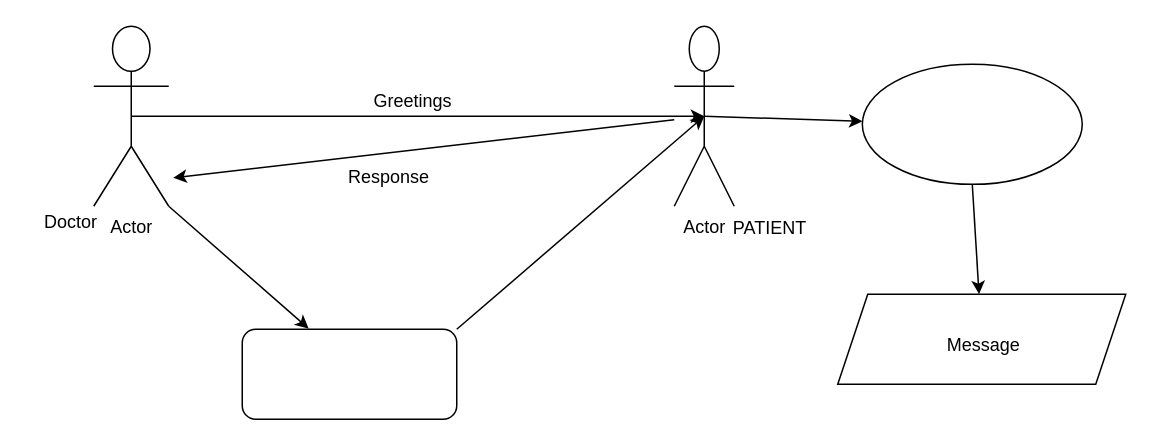
Image size: 1152x446. Some labels were removed from this diagram. The centre of each missing label's shape, as x and y in pixels:
Questions: (349,373)
Quit: (971,123)
